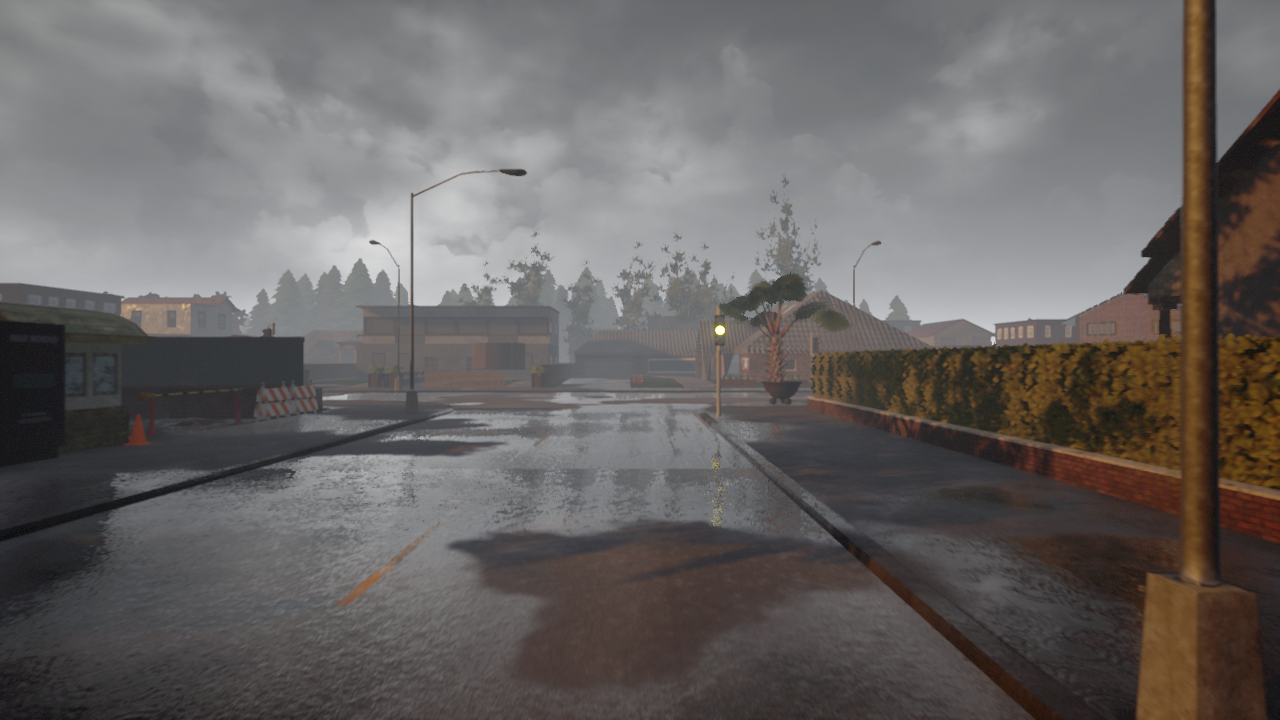yellow: (714, 314, 726, 346)
